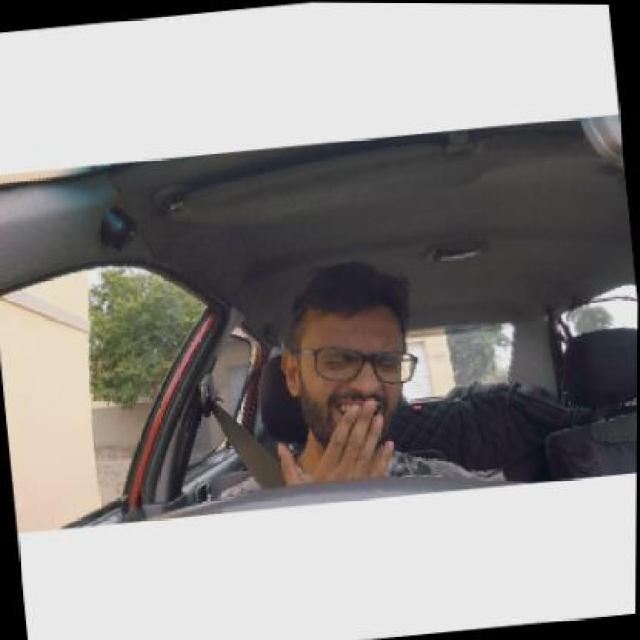drowsy: (276, 274, 428, 462)
